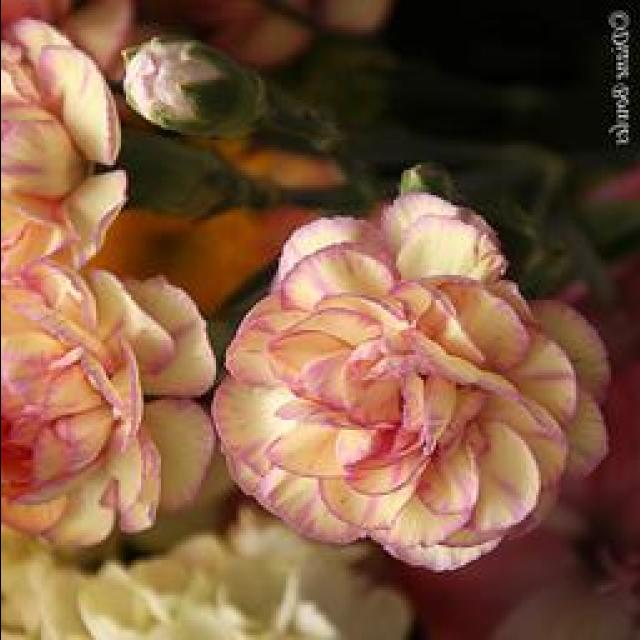carnation: (196, 171, 600, 585)
